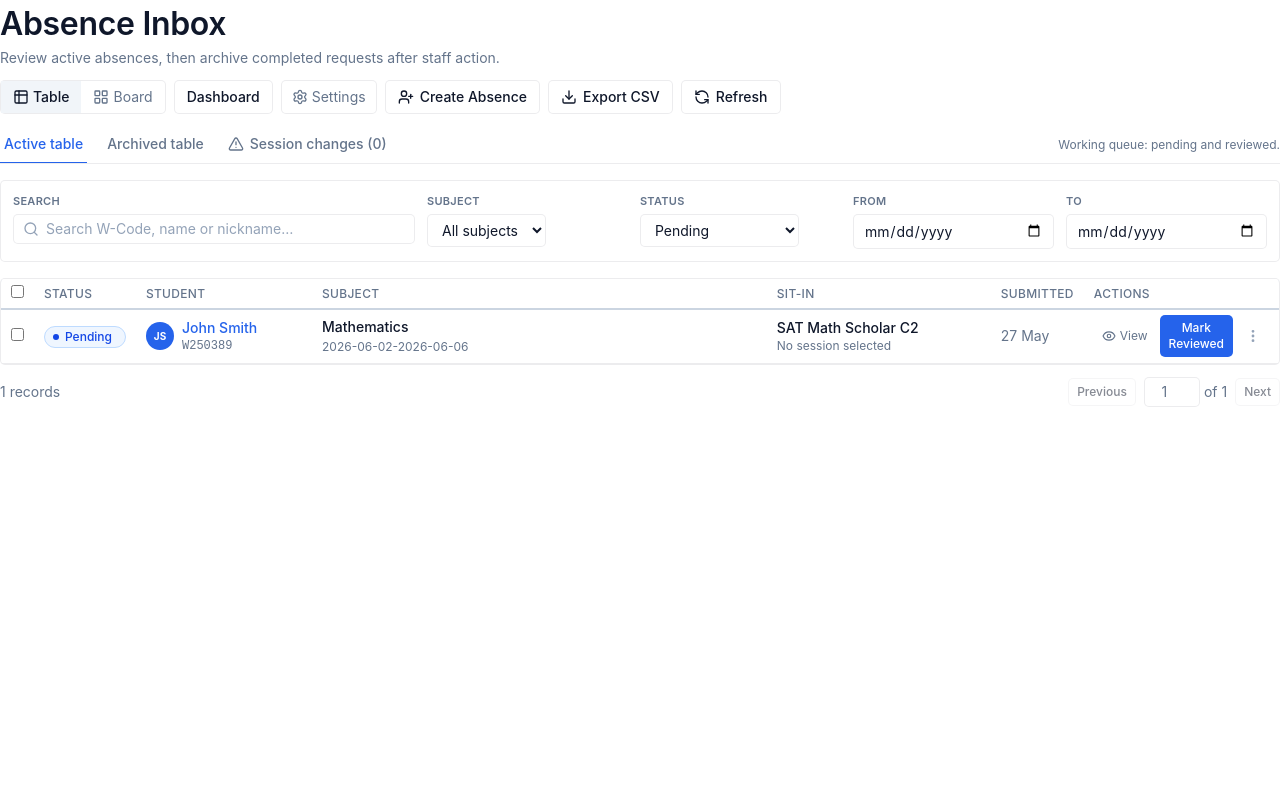
Test: Absence inbox › shows error toast when delete API fails
Expected: the link "John Smith" is shown, 182,318 -> 257,336
Click the button named "more actions": (1253, 336) 1237,320 -> 1269,352
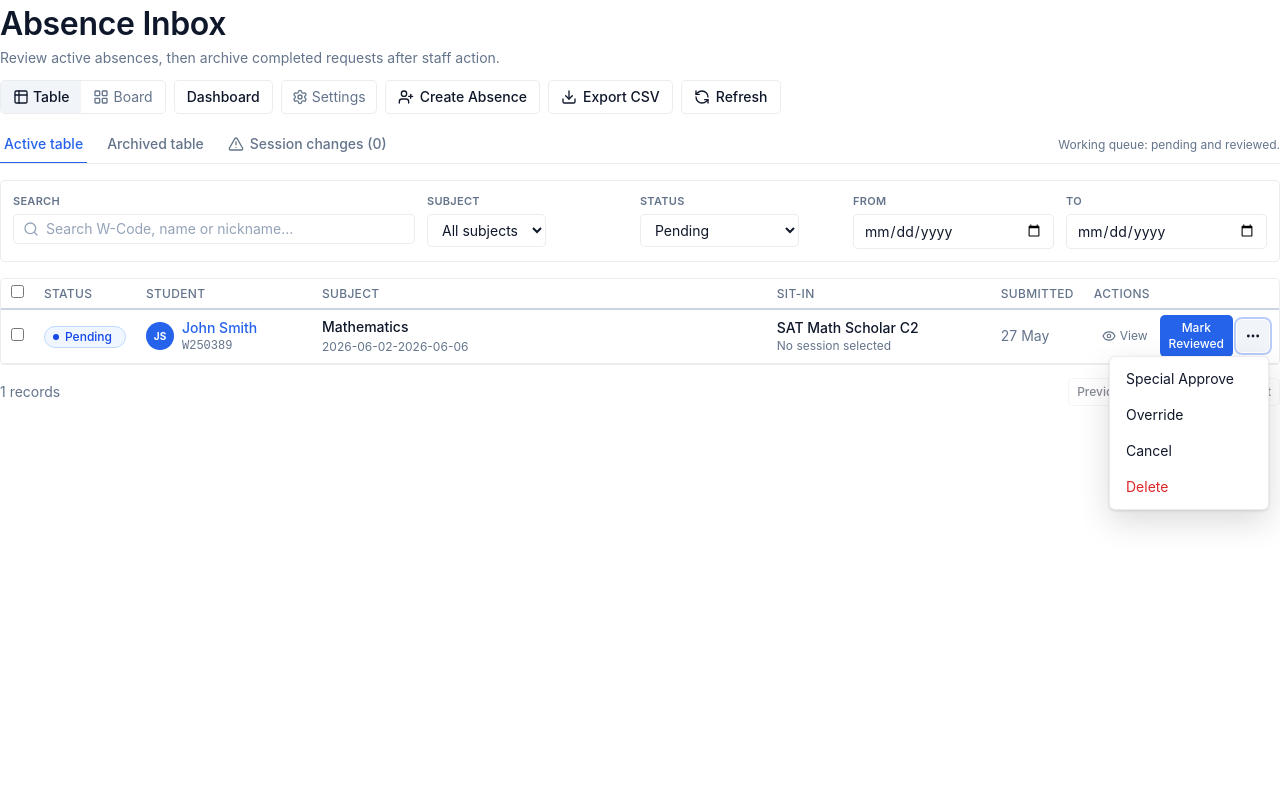
Click the menu item "Delete": (1189, 486) 1114,468 -> 1264,504
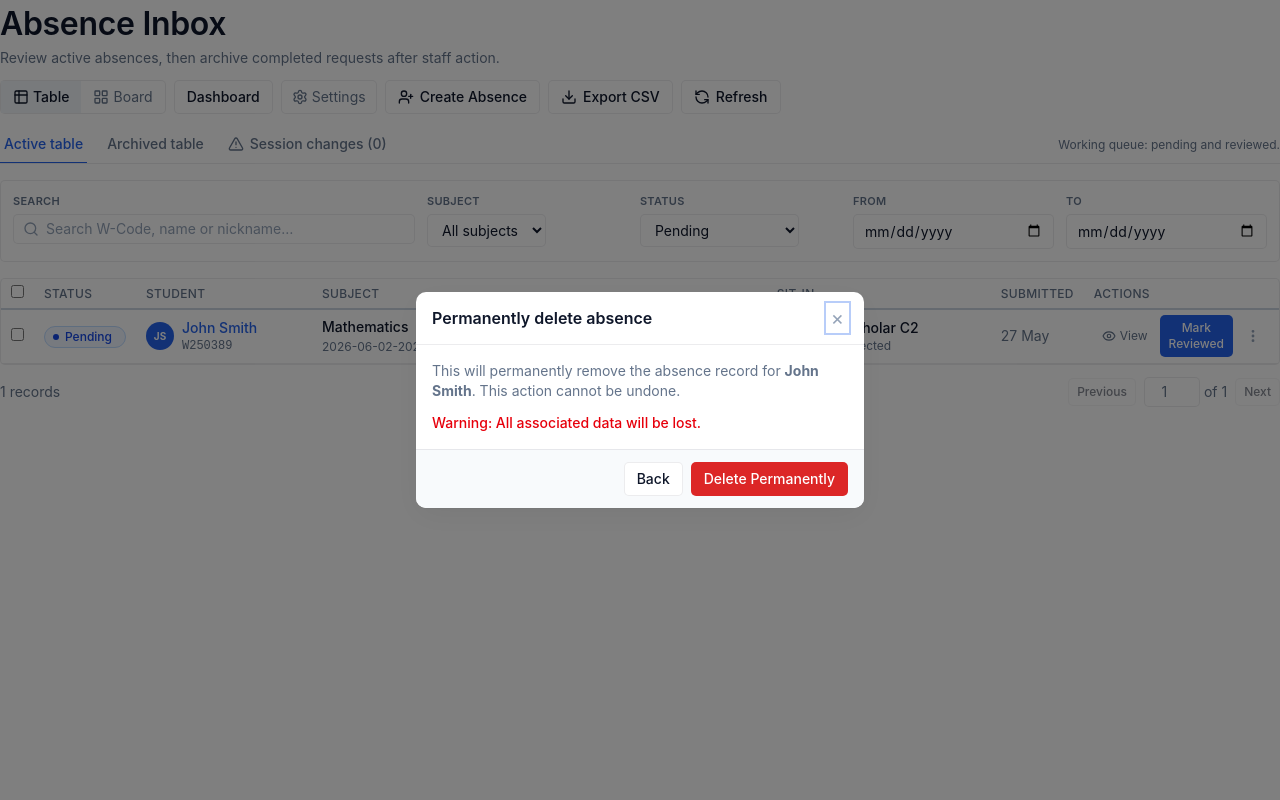
Click the button "Delete Permanently": (769, 479) 691,462 -> 848,496
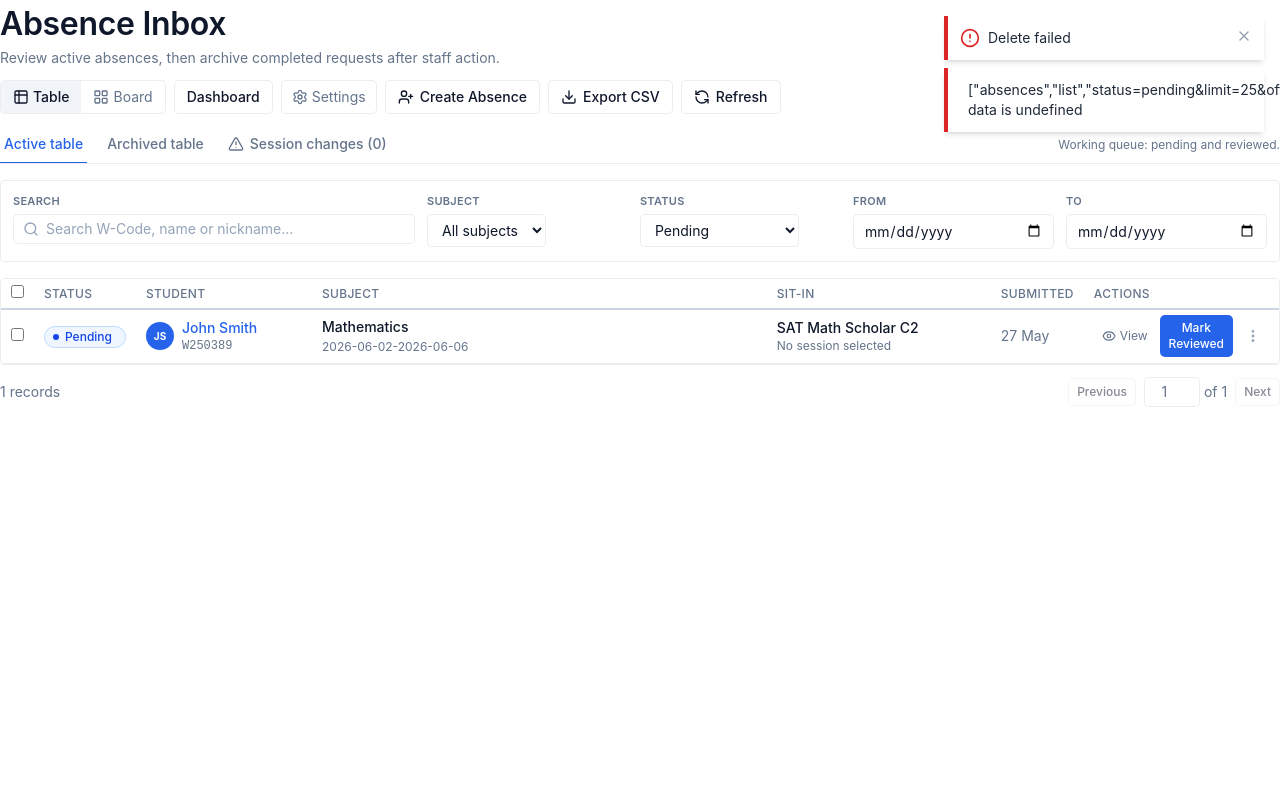
Expected: the text "Delete failed" is shown, 988,29 -> 1071,46
